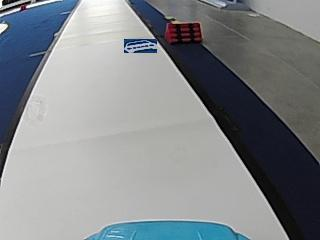bomb: (163, 21, 202, 42)
